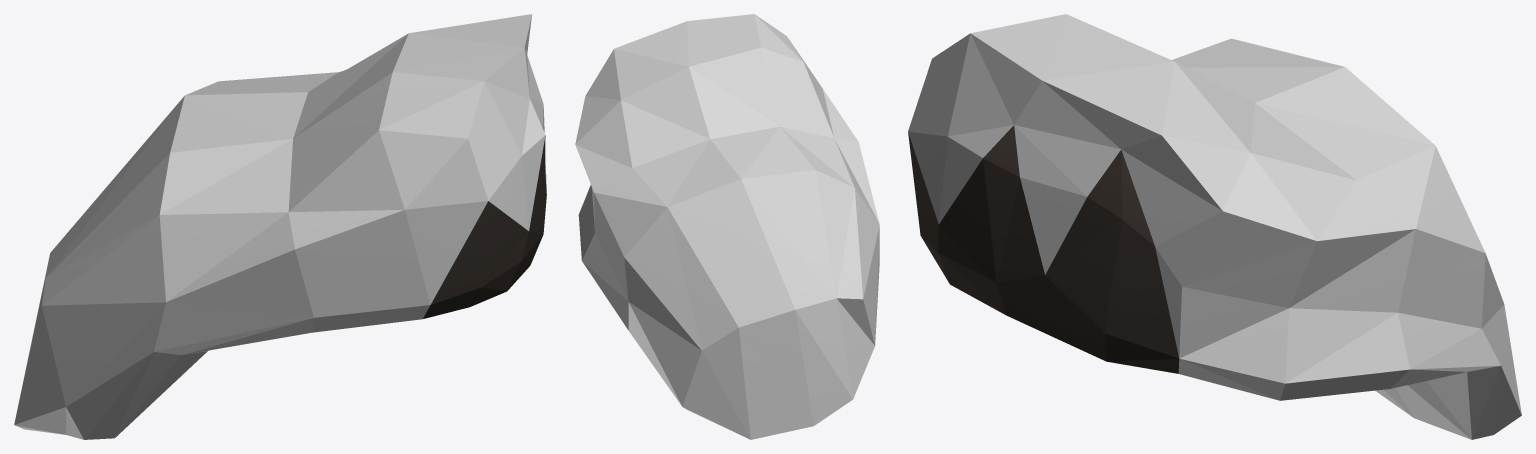
The model's file is helmBuskerF.fbx.
The picture shows the model from 3 angles, left to right: view 1: azimuth 30°, elevation 25°; view 2: azimuth 150°, elevation 25°; view 3: azimuth 270°, elevation 25°; orthographic projection. The views are drawn at different scales.
Parts seen in each view (by area): view 1: helmBuskerF; view 2: helmBuskerF; view 3: helmBuskerF.
Part boxes in pixels (left/top/right/bottom): helmBuskerF: left=14, top=14, right=546, bottom=439; helmBuskerF: left=575, top=14, right=879, bottom=439; helmBuskerF: left=908, top=14, right=1521, bottom=439.
Size of the model in its own units: 0.6678 by 0.6015 by 0.664.
